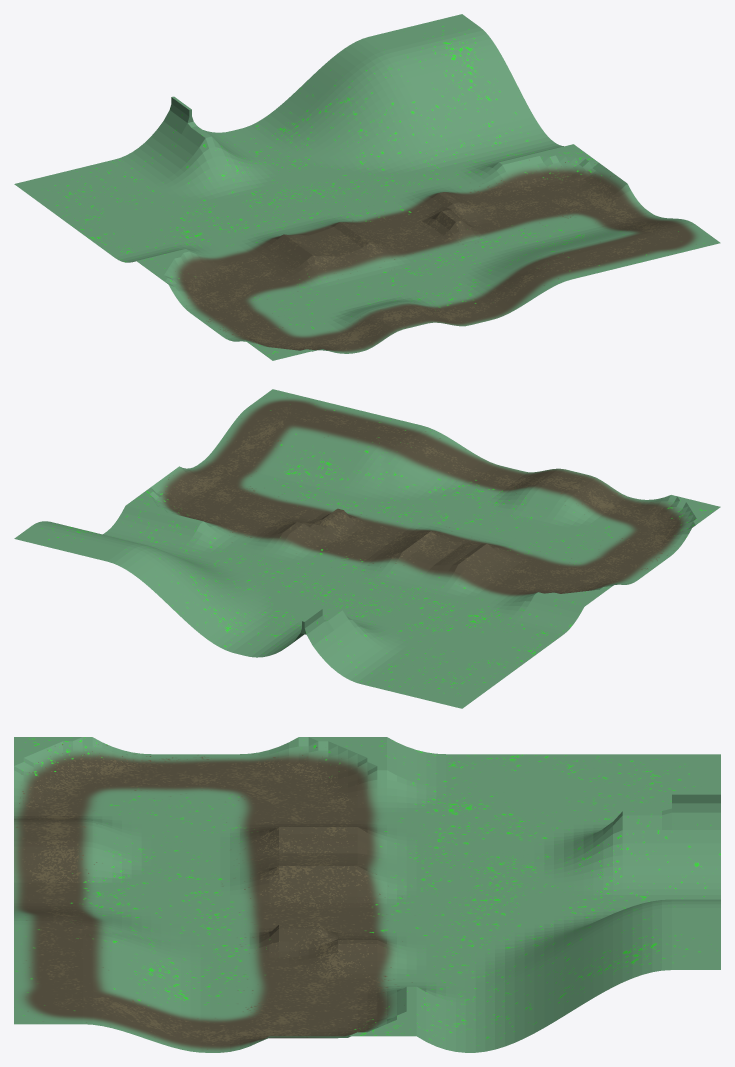
File: Maybe the test map.fbx
3 renders of one model, top to bottom at view 1: azimuth 30°, elevation 25°; view 2: azimuth 150°, elevation 25°; view 3: azimuth 270°, elevation 25°, orthographic. The views are drawn at different scales.
Visible parts, largest first — view 1: Grid; view 2: Grid; view 3: Grid.
Boxes of the visible parts, x1,y1,x2,y2 form: Grid: (14,14,720,360); Grid: (14,389,720,708); Grid: (14,737,720,1052).
Size of the model in its own units: 500 by 64.66 by 500.
